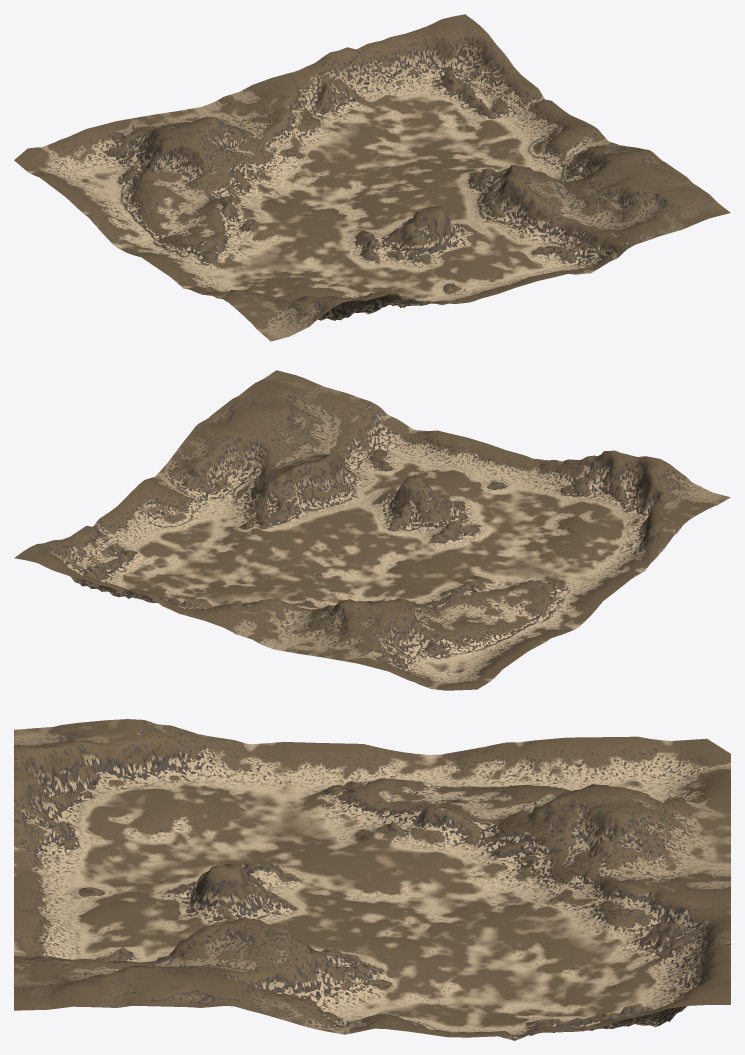
Rendered from DessertTerrainNew.fbx.
3 renders of one model, top to bottom at view 1: azimuth 30°, elevation 25°; view 2: azimuth 150°, elevation 25°; view 3: azimuth 270°, elevation 25°, orthographic. The views are drawn at different scales.
Parts seen in each view (by area): view 1: Terrain; view 2: Terrain; view 3: Terrain.
Part boxes in pixels (x1=…): Terrain: x1=14, y1=14, x2=730, y2=341; Terrain: x1=14, y1=370, x2=730, y2=690; Terrain: x1=14, y1=719, x2=730, y2=1040.
Size of the model in its own units: 160945 by 15374 by 160945.
